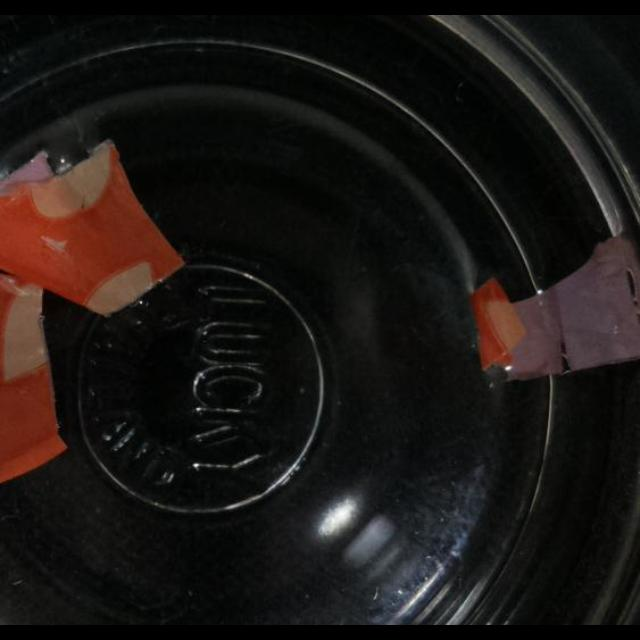Fragment: (4, 146, 182, 312), (467, 231, 640, 391), (0, 278, 66, 490)
